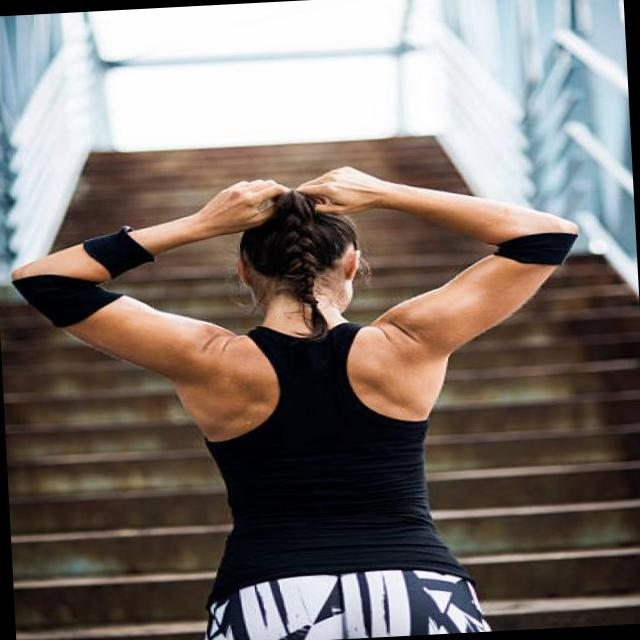no helmet: (152, 179, 434, 351)
